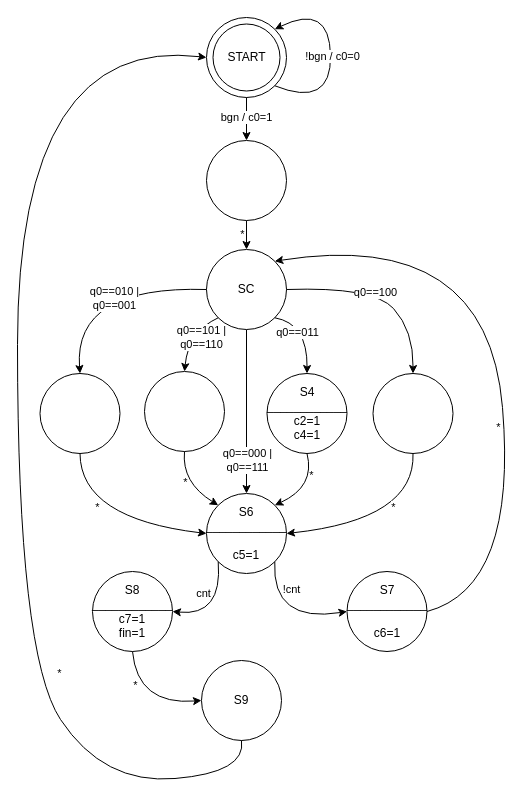
Image size: 523x797. Some labels were removed from this diagram. Each missing label, with the box of its shape:
S0: (206, 140, 286, 220)
S2 ____________ c2=1: (39, 372, 120, 454)
S3 ____________ c3=1: (144, 370, 224, 452)
S5 ____________ c2=1 c3=1 c4=1: (372, 372, 453, 454)
